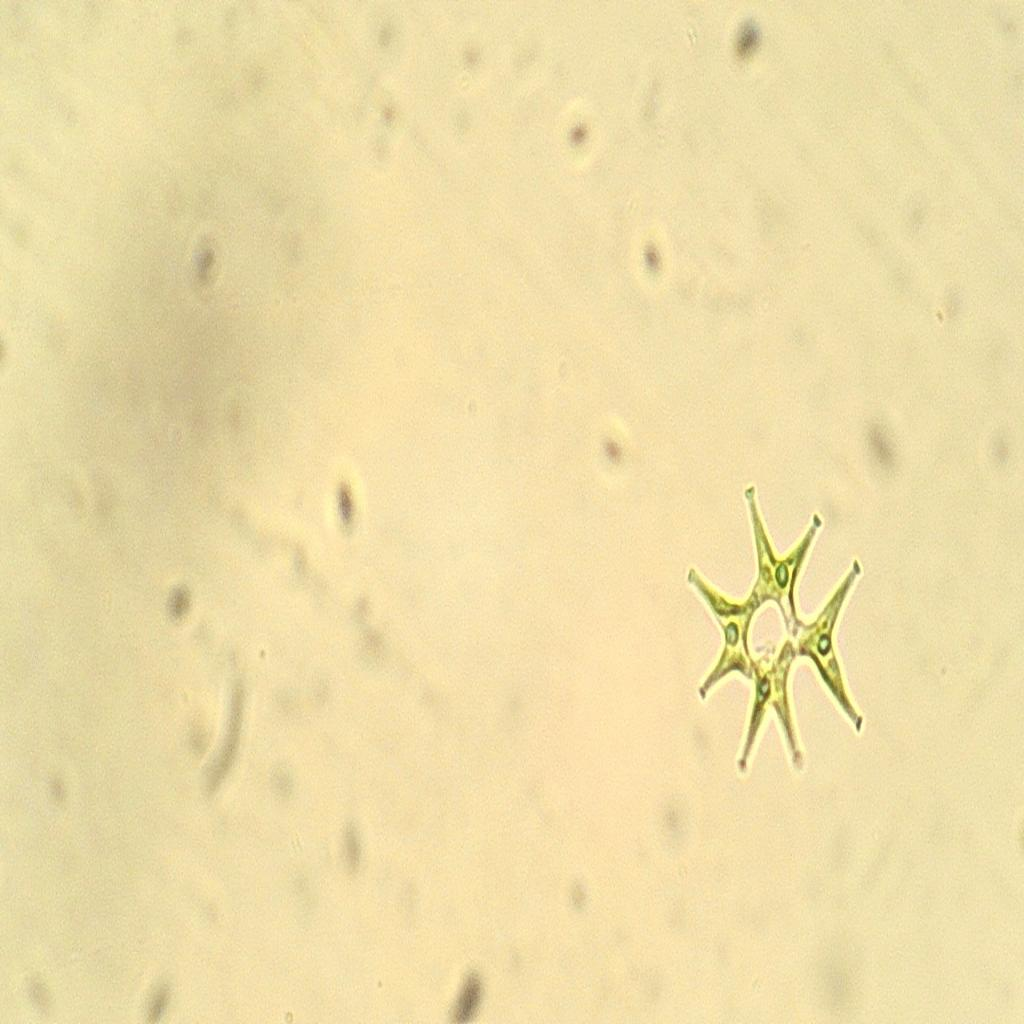Pediastrum_75FI: (672, 450, 878, 796)
